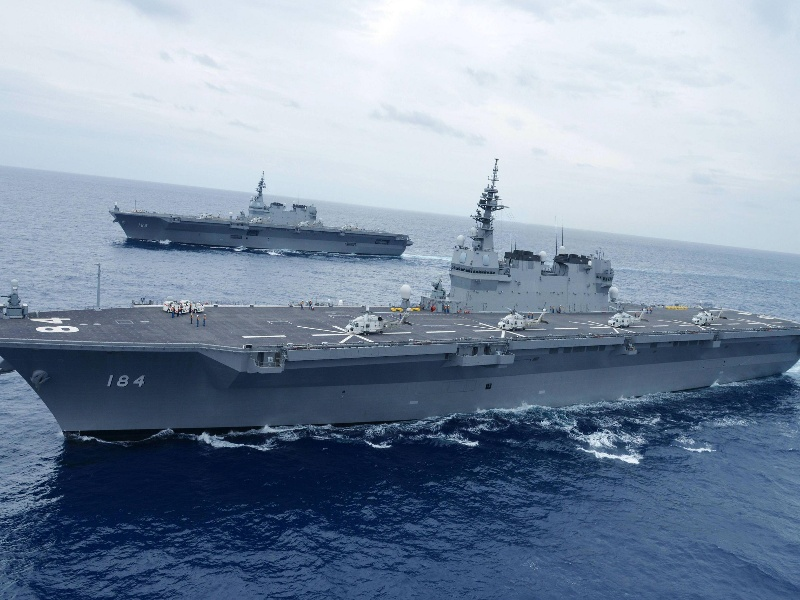carrier: (19, 229, 792, 429), (109, 182, 406, 259)
